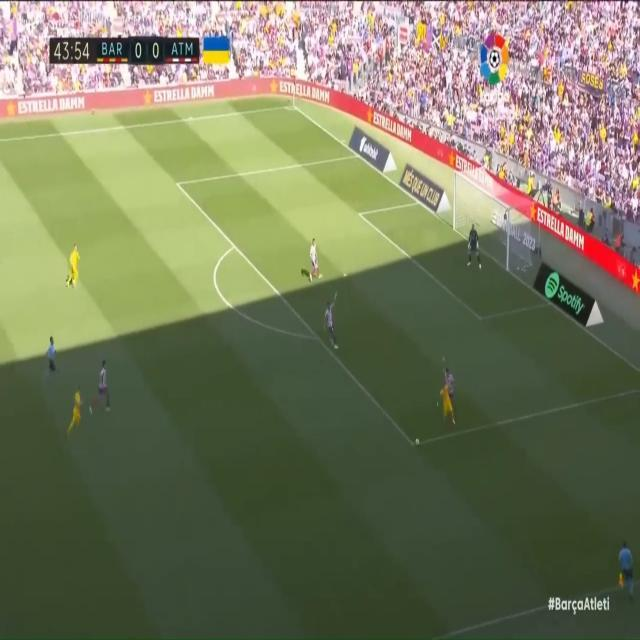ball: (413, 433, 423, 449)
goalkeeper: (465, 213, 488, 275)
player: (317, 294, 347, 350), (92, 354, 118, 416), (67, 239, 89, 291), (301, 234, 323, 284), (64, 378, 82, 439), (440, 384, 458, 430), (441, 364, 463, 401)
referee: (613, 539, 638, 596), (43, 330, 58, 381)
